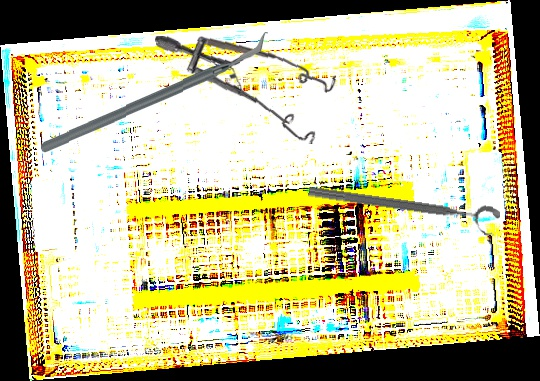Chopper: (38, 31, 271, 155)
Fixation Ring: (305, 180, 502, 240)
Speculum: (155, 23, 341, 155)
